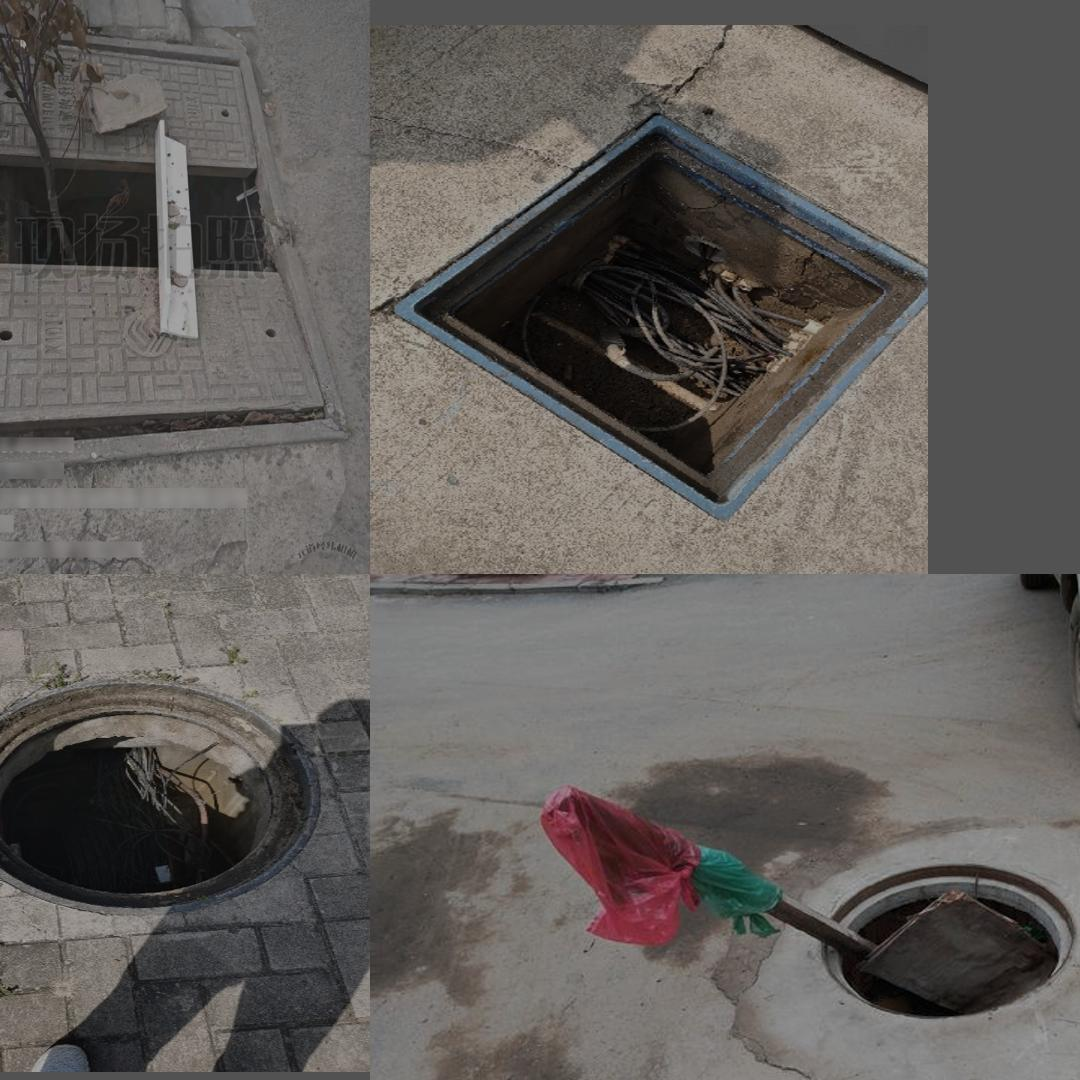lose: (391, 115, 928, 521), (0, 20, 351, 480), (0, 678, 322, 915), (795, 844, 1080, 1038)
